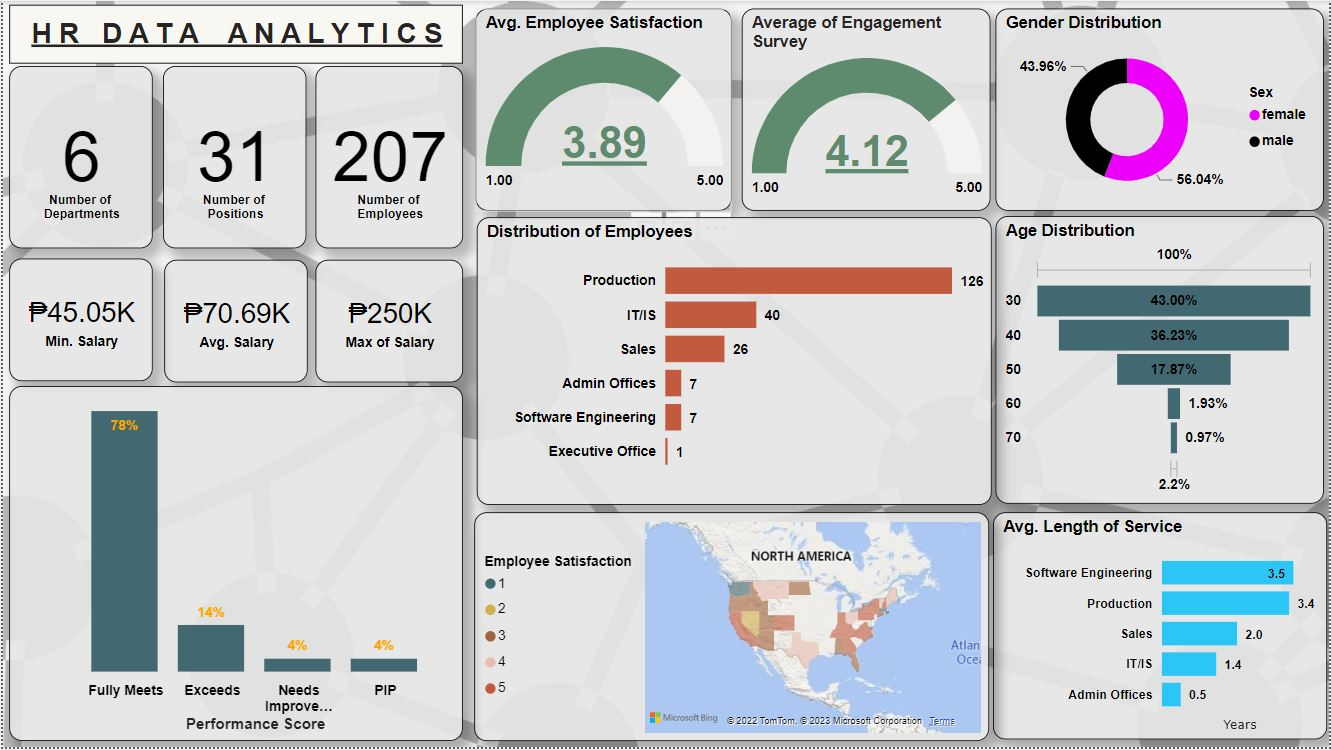

Layout of this report page (visuals, bound fields, positions):
{"tool":"powerbi","page":{"name":"Page 1","canvas":[1280,720],"ordinal":0},"visuals":[{"type":"card","fields":{"Values":["CountNonNull(Department.DepartmentID)"]},"box":[6,62.7,138.7,176.1],"z":0},{"type":"card","fields":{"Values":["CountNonNull(Position.Position ID)"]},"box":[154.4,62.7,138.7,176.1],"z":1000},{"type":"card","fields":{"Values":["CountNonNull(HR_Data.PositionID)"]},"box":[301.5,62.7,142.3,176.1],"z":2000},{"type":"gauge","fields":{"Y":["Avg(HR_Data.EmpSatisfaction)"]},"box":[455.9,7.2,247.2,195.4],"z":3000},{"type":"gauge","title":"Average of Engagement Survey","fields":{"Y":["Avg(HR_Data.EngagementSurvey)"]},"box":[712.8,7.2,240,195.4],"z":4000},{"type":"donutChart","title":"Gender Distribution","fields":{"Category":["HR_Data.Sex"],"Y":["CountNonNull(HR_Data.Sex)"]},"box":[957.6,7.2,317.2,195.4],"z":5000},{"type":"textbox","box":[6,3.6,437.8,56.7],"z":6000},{"type":"funnel","title":"Age Distribution","fields":{"Category":["HR_Data.AgeFinal (bins)"],"Y":["Sum(HR_Data.AgeFinal)"]},"box":[957.6,207.4,317.2,277.4],"z":7000},{"type":"card","fields":{"Values":["Avg(HR_Data.Salary)"]},"box":[155.6,249.6,138.7,118.2],"z":8000},{"type":"card","fields":{"Values":["Max(HR_Data.Salary)"]},"box":[301.5,249.6,142.3,118.2],"z":9000},{"type":"card","fields":{"Values":["Min(HR_Data.Salary)"]},"box":[6,248.4,138.7,118.2],"z":10000},{"type":"clusteredBarChart","title":"Distribution of Employees","fields":{"Category":["Department.Department_Name"],"Y":["CountNonNull(HR_Data.EmpID)"]},"box":[457.1,208.6,496.9,277.4],"z":11000},{"type":"clusteredBarChart","title":"Avg. Length of Service","fields":{"Category":["Department.Department_Name"],"Y":["Avg(HR_Data.EmploRetention)"]},"box":[955.2,493.3,322,219.5],"z":12000},{"type":"filledMap","fields":{"Category":["HR_Data.State"],"Series":["HR_Data.EmpSatisfaction"]},"box":[454.7,493.3,496.9,220.7],"z":13000},{"type":"columnChart","fields":{"Category":["HR_Data.PerformanceScore"],"Y":["CountNonNull(HR_Data.PerformanceScore)"]},"box":[6,371.5,437.8,342.5],"z":14000}]}

Visuals, with their boxes in screenshot pixels (x1, y1, x2, y2), scaled from the page's 1280x720 canvas onto the 1331x750 screenshot:
card - CountNonNull(Department.DepartmentID): bbox=(6, 65, 150, 249)
card - CountNonNull(Position.Position ID): bbox=(161, 65, 305, 249)
card - CountNonNull(HR_Data.PositionID): bbox=(314, 65, 461, 249)
gauge - Avg(HR_Data.EmpSatisfaction): bbox=(474, 8, 731, 211)
"Average of Engagement Survey" gauge: bbox=(741, 8, 991, 211)
"Gender Distribution" donutChart: bbox=(996, 8, 1326, 211)
textbox: bbox=(6, 4, 461, 63)
"Age Distribution" funnel: bbox=(996, 216, 1326, 505)
card - Avg(HR_Data.Salary): bbox=(162, 260, 306, 383)
card - Max(HR_Data.Salary): bbox=(314, 260, 461, 383)
card - Min(HR_Data.Salary): bbox=(6, 259, 150, 382)
"Distribution of Employees" clusteredBarChart: bbox=(475, 217, 992, 506)
"Avg. Length of Service" clusteredBarChart: bbox=(993, 514, 1328, 742)
filledMap - HR_Data.State x HR_Data.EmpSatisfaction: bbox=(473, 514, 990, 744)
columnChart - HR_Data.PerformanceScore x CountNonNull(HR_Data.PerformanceScore): bbox=(6, 387, 461, 744)
